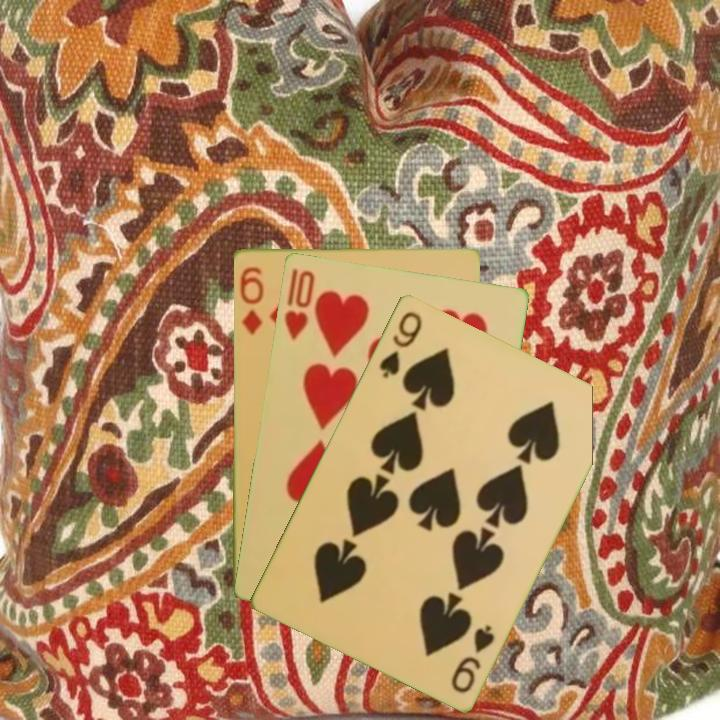10h: (280, 264, 318, 342)
6d: (236, 263, 266, 338)
9s: (447, 620, 498, 696), (375, 307, 425, 381)
